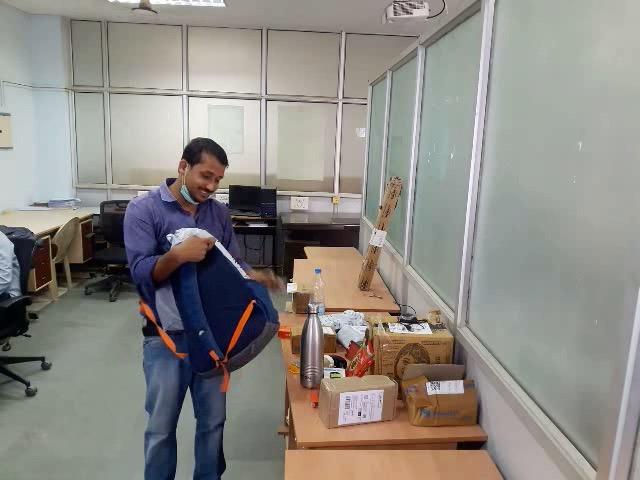shoplifting: (110, 209, 311, 393)
